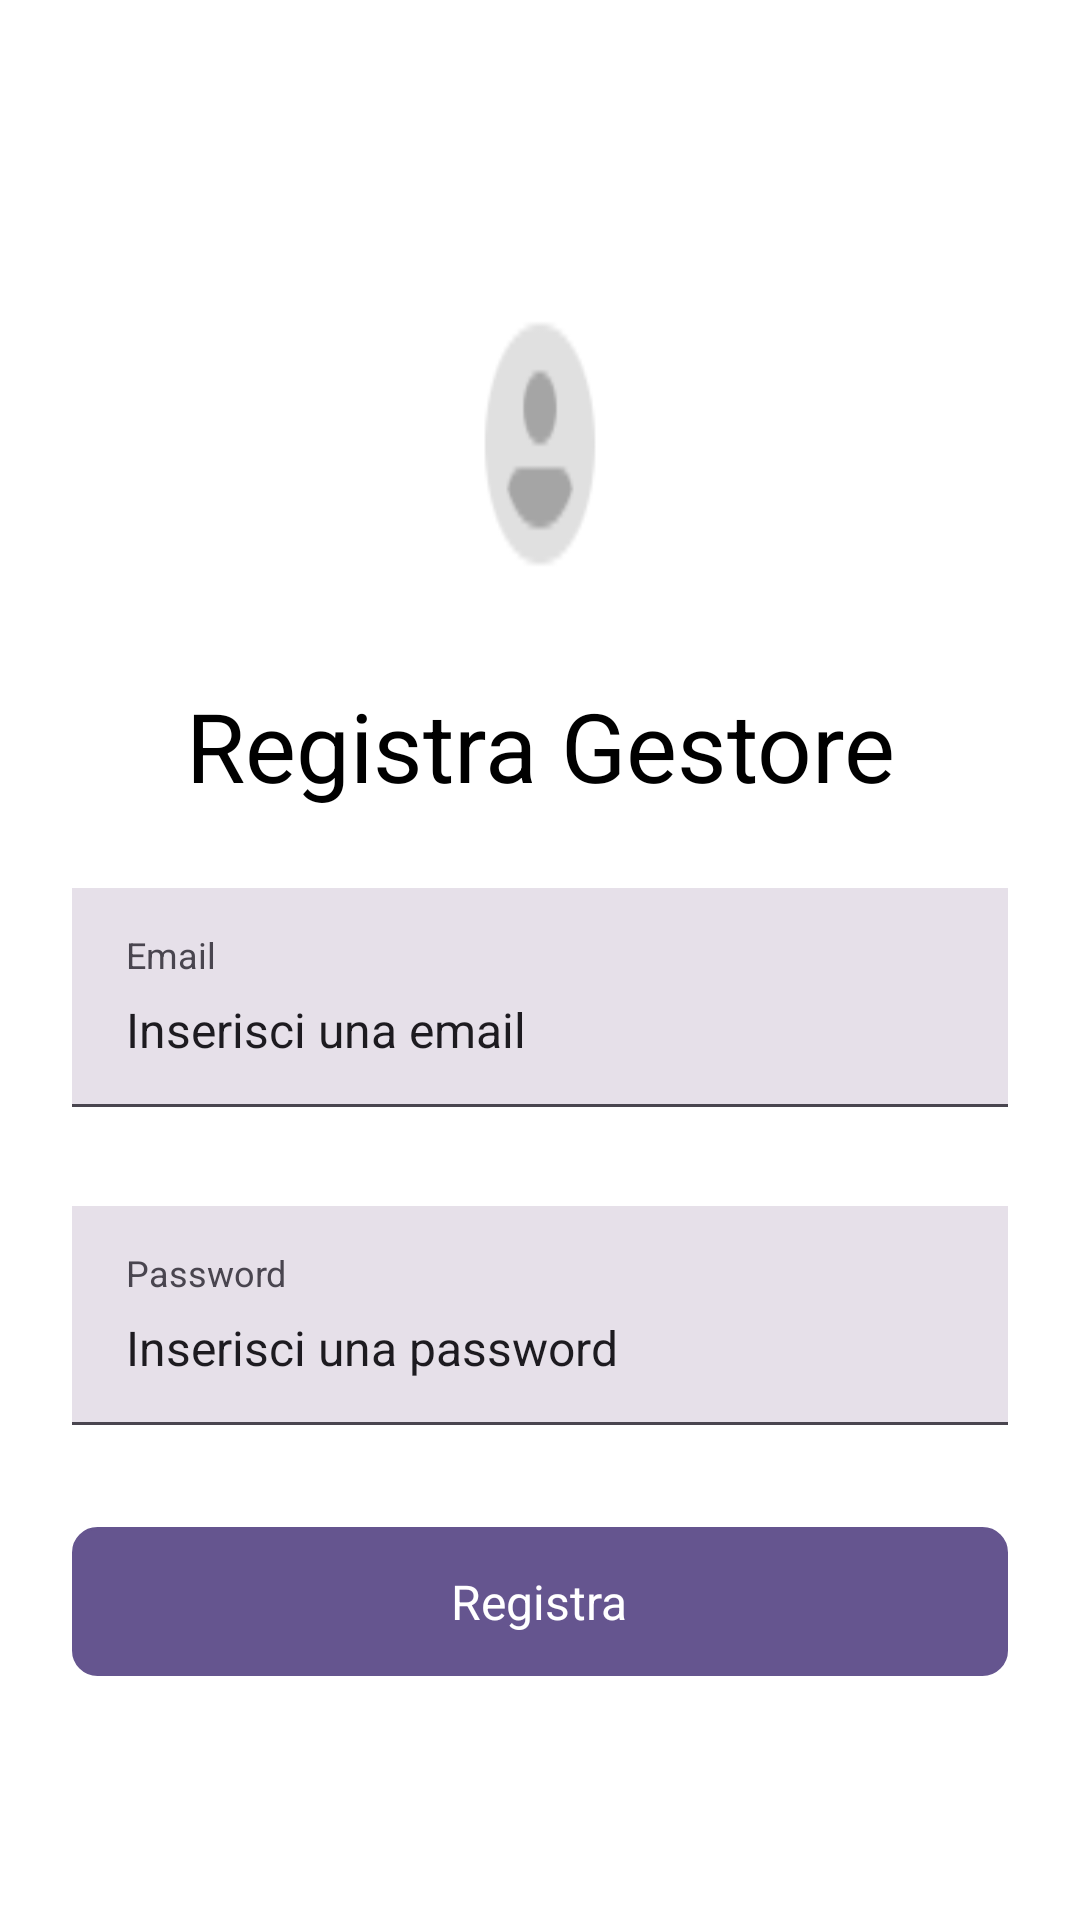

Named icons in this screenshot (1080 × 1920) and their bounding boxes, (x1=x1, y1=y1, x2=x2, y2=y2):
account: (x1=486, y1=326, x2=594, y2=562)
